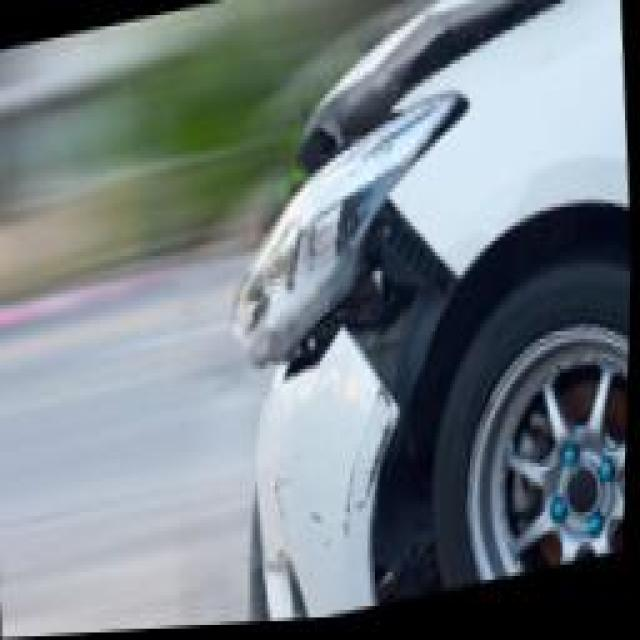Bonnet: (272, 0, 609, 140)
Bumper: (230, 324, 444, 628)
